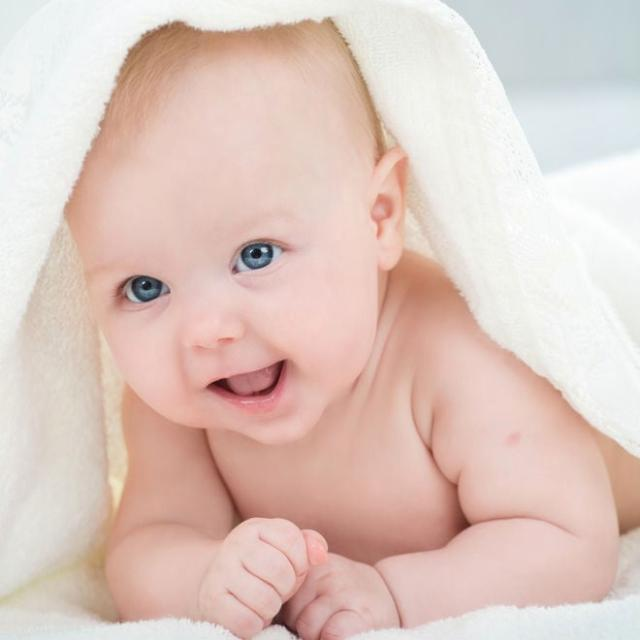child: (58, 14, 640, 640)
